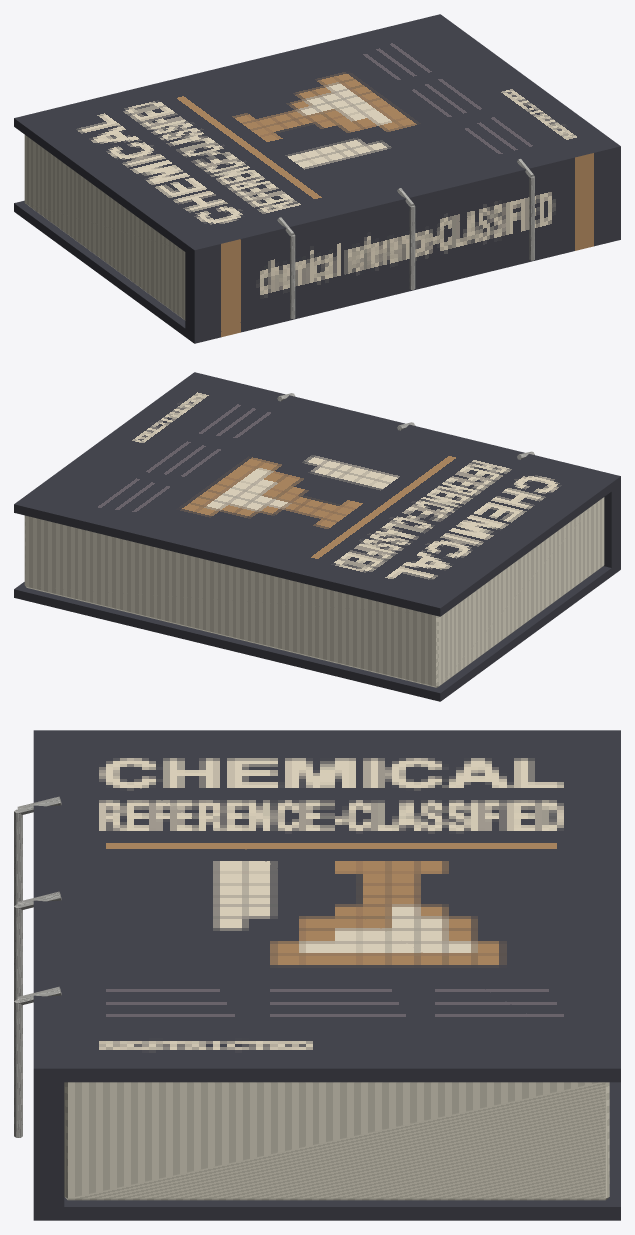
The model's file is recipe_labchem.glb.
The picture shows the model from 3 angles, top to bottom: view 1: azimuth 30°, elevation 25°; view 2: azimuth 150°, elevation 25°; view 3: azimuth 270°, elevation 25°; orthographic projection. The views are drawn at different scales.
Visible parts, largest first — view 1: block_front, block_spine, block_pages, block_back, block_binding edge (×3); view 2: block_front, block_pages, block_back, block_spine; view 3: block_front, block_pages, block_back, block_spine, block_binding edge (×3).
Boxes of the visible parts, x1,y1,x2,y2 form: block_front: (14, 14, 618, 256); block_spine: (185, 139, 620, 343); block_pages: (24, 135, 185, 320); block_back: (14, 200, 192, 341); block_binding edge (×3): (290, 176, 534, 318); block_front: (14, 374, 618, 616); block_pages: (24, 497, 604, 687); block_back: (14, 563, 618, 701); block_spine: (185, 372, 620, 570); block_front: (41, 730, 620, 1082); block_pages: (64, 1082, 609, 1200); block_back: (41, 1082, 620, 1220); block_spine: (33, 730, 64, 1220); block_binding edge (×3): (14, 809, 22, 1137).
Size of the model in its own units: 0.3112 by 0.0682 by 0.2359.
Materials: 1 (1 with a texture image).
